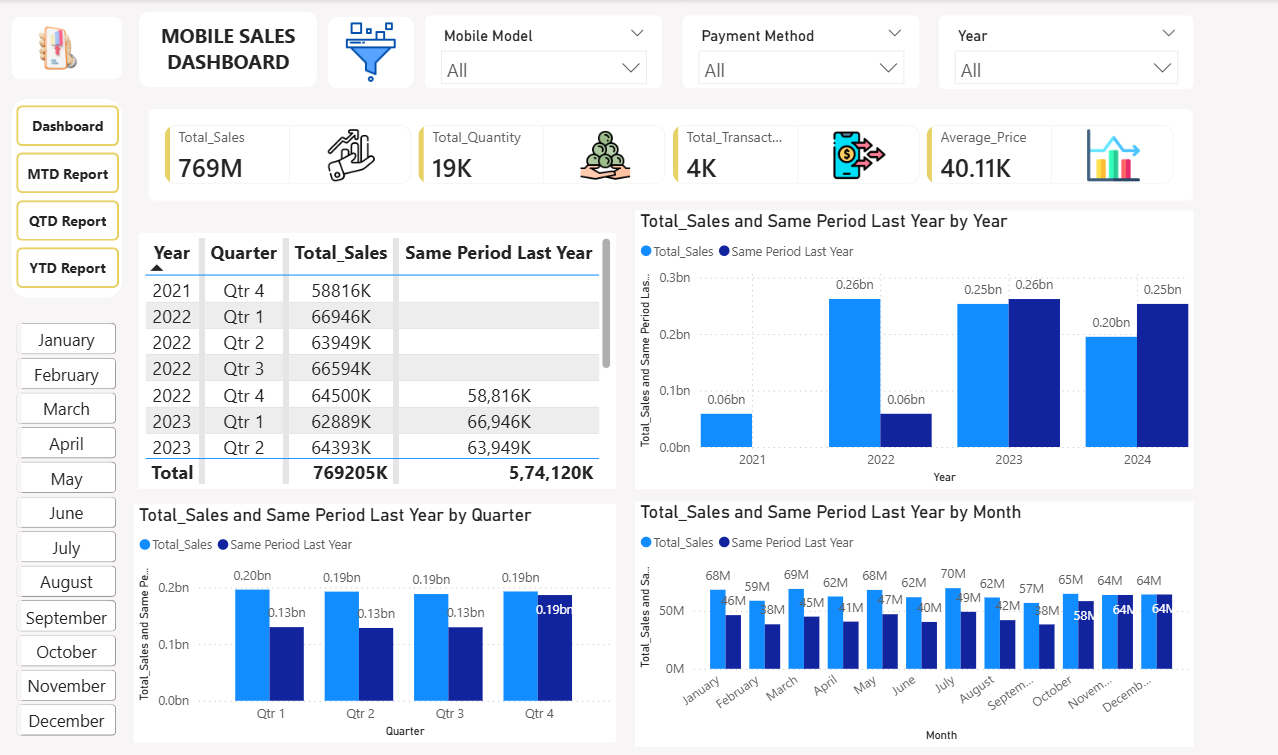

Layout of this report page (visuals, bound fields, positions):
{"tool":"powerbi","page":{"name":"Same Period Last Year","canvas":[1280,720],"ordinal":4},"visuals":[{"type":"shape","box":[11,16.5,105.7,60.4],"z":0},{"type":"image","box":[17.8,23.3,75.5,45.3],"z":1000},{"type":"shape","box":[11,94.7,105.7,189.4],"z":2000},{"type":"cardVisual","fields":{"Data":["fact_sales_data.Total_Sales","fact_sales_data.Total_Quantity","fact_sales_data.Total_Transactions","fact_sales_data.Average_Price"]},"box":[132.5,95,1013.8,106.2],"z":3000},{"type":"slicer","fields":{"Values":["fact_sales_data.Mobile Model"]},"box":[395,6.2,245,88.8],"z":4000},{"type":"slicer","fields":{"Values":["fact_sales_data.Payment Method"]},"box":[640,6.2,245,88.8],"z":5000},{"type":"slicer","fields":{"Values":["dim_calendar.Date.Variation.Date Hierarchy.Year"]},"box":[884.5,6,261.9,89.3],"z":6000},{"type":"shape","box":[312.5,16.2,82.5,68.8],"z":7000},{"type":"image","box":[312.5,21.2,82.5,58.8],"z":8000},{"type":"shape","box":[132.5,12.5,170,72.5],"z":9000},{"type":"textbox","box":[142.5,16.2,148.8,63.8],"z":10000},{"type":"tableEx","fields":{"Values":["dim_calendar.Date.Variation.Date Hierarchy.Year","dim_calendar.Date.Variation.Date Hierarchy.Quarter","fact_sales_data.Total_Sales","fact_sales_data.Same Period Last Year"]},"box":[132.1,222.6,454.8,244],"z":11000},{"type":"advancedSlicerVisual","fields":{"Values":["dim_calendar.Date.Variation.Date Hierarchy.Month"]},"box":[11,303.3,105.7,404.8],"z":12000},{"type":"clusteredColumnChart","fields":{"Y":["fact_sales_data.Total_Sales","fact_sales_data.Same Period Last Year"],"Category":["dim_calendar.Date.Variation.Date Hierarchy.Year","dim_calendar.Date.Variation.Date Hierarchy.Quarter","dim_calendar.Date.Variation.Date Hierarchy.Month","dim_calendar.Date.Variation.Date Hierarchy.Day"]},"box":[604.8,201.2,532.1,265.5],"z":13000},{"type":"clusteredColumnChart","fields":{"Y":["fact_sales_data.Total_Sales","fact_sales_data.Same Period Last Year"],"Category":["dim_calendar.Date.Variation.Date Hierarchy.Year","dim_calendar.Date.Variation.Date Hierarchy.Quarter","dim_calendar.Date.Variation.Date Hierarchy.Month","dim_calendar.Date.Variation.Date Hierarchy.Day"]},"box":[127.4,481,459.5,227.4],"z":14000},{"type":"clusteredColumnChart","fields":{"Y":["fact_sales_data.Total_Sales","fact_sales_data.Same Period Last Year"],"Category":["dim_calendar.Date.Variation.Date Hierarchy.Year","dim_calendar.Date.Variation.Date Hierarchy.Quarter","dim_calendar.Date.Variation.Date Hierarchy.Month","dim_calendar.Date.Variation.Date Hierarchy.Day"]},"box":[604.8,478.6,532.1,233.3],"z":15000},{"type":"pageNavigator","box":[15,101.2,98.8,175],"z":15001}]}

Visuals, with their boxes on the page's 1280x720 design canvas (x1, y1, x2, y2). These are canvas units, not pixel positions in the 1278x755 screenshot, which may show the page scaled, cropped or inside an application window:
shape: 11,16,117,77
image: 18,23,93,69
shape: 11,95,117,284
cardVisual - fact_sales_data.Total_Sales x fact_sales_data.Total_Quantity: 132,95,1146,201
slicer - fact_sales_data.Mobile Model: 395,6,640,95
slicer - fact_sales_data.Payment Method: 640,6,885,95
slicer - dim_calendar.Date.Variation.Date Hierarchy.Year: 884,6,1146,95
shape: 312,16,395,85
image: 312,21,395,80
shape: 132,12,302,85
textbox: 142,16,291,80
tableEx - dim_calendar.Date.Variation.Date Hierarchy.Year x dim_calendar.Date.Variation.Date Hierarchy.Quarter: 132,223,587,467
advancedSlicerVisual - dim_calendar.Date.Variation.Date Hierarchy.Month: 11,303,117,708
clusteredColumnChart - fact_sales_data.Total_Sales x fact_sales_data.Same Period Last Year: 605,201,1137,467
clusteredColumnChart - fact_sales_data.Total_Sales x fact_sales_data.Same Period Last Year: 127,481,587,708
clusteredColumnChart - fact_sales_data.Total_Sales x fact_sales_data.Same Period Last Year: 605,479,1137,712
pageNavigator: 15,101,114,276
